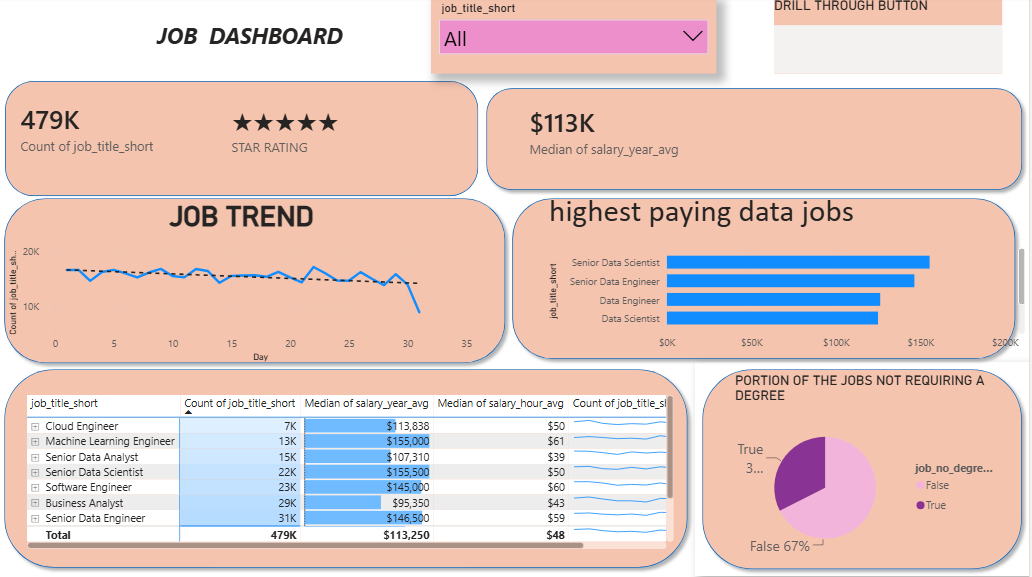

What the dashboard file says about the page in this screenshot:
{"tool":"powerbi","page":{"name":"JOB DASHBOARD","canvas":[1280,720],"ordinal":0},"visuals":[{"type":"shape","box":[10.2,103.6,587.1,142.8],"z":0},{"type":"slicer","fields":{"Values":["job_postings_flat.job_title_short"]},"box":[538.5,0,354,95.3],"z":1000},{"type":"shape","box":[597.3,103.6,682.7,144.3],"z":2000},{"type":"cardVisual","fields":{"Data":["CountNonNull(job_postings_flat.job_title_short)"]},"box":[0,74.3,280,173.3],"z":3000},{"type":"shape","box":[0,240,639.5,222.6],"z":4000},{"type":"cardVisual","fields":{"Data":["job_postings_flat.STAR RATING"]},"box":[261.8,82,304.1,164],"z":5000},{"type":"shape","box":[630.1,240.2,642,217.4],"z":6000},{"type":"cardVisual","fields":{"Data":["Median(job_postings_flat.salary_year_avg)"]},"box":[631.9,95.5,321,140.2],"z":7000},{"type":"shape","box":[0,453.1,865.5,264.1],"z":8000},{"type":"shape","box":[865.5,453.1,414.5,266.2],"z":10000},{"type":"lineChart","title":"JOB TREND","fields":{"Category":["job_postings_flat.job_posted_date.Variation.Date Hierarchy.Year","job_postings_flat.job_posted_date.Variation.Date Hierarchy.Quarter","job_postings_flat.job_posted_date.Variation.Date Hierarchy.Month","job_postings_flat.job_posted_date.Variation.Date Hierarchy.Day"],"Y":["CountNonNull(job_postings_flat.job_title_short)"]},"box":[10.2,251.9,587.2,205.2],"z":11000},{"type":"barChart","title":"highest paying data jobs","fields":{"Category":["job_postings_flat.job_title_short"],"Y":["Median(job_postings_flat.salary_year_avg)"]},"box":[679.7,240.7,600.3,206.3],"z":12000},{"type":"pivotTable","fields":{"Rows":["job_postings_flat.job_title_short","job_postings_flat.job_posted_date.Variation.Date Hierarchy.Quarter"],"Values":["CountNonNull(job_postings_flat.job_title_short)","Median(job_postings_flat.salary_year_avg)","Median(job_postings_flat.salary_hour_avg)","SparklineData(CountNonNull(job_postings_flat.job_title_short)_[job_postings_flat.job_posted_date.Variation.Date Hierarch"]},"box":[31.7,489.3,811.9,201],"z":13000},{"type":"pieChart","title":"PORTION OF THE JOBS NOT REQUIRING A DEGREE","fields":{"Category":["job_postings_flat.job_no_degree_mention"],"Y":["CountNonNull(job_postings_flat.job_no_degree_mention)"]},"box":[910.2,465.3,338.5,238],"z":14000},{"type":"actionButton","title":"DRILL THROUGH BUTTON","box":[964.3,0,283.5,95.3],"z":15000},{"type":"textbox","box":[18.6,24.8,488.7,61],"z":15001}]}

Visuals, with their boxes in screenshot pixels (x1, y1, x2, y2), scaled from the page's 1280x720 canvas onto the 1032x577 screenshot:
shape: pyautogui.locateOnScreen(8, 83, 482, 197)
slicer - job_postings_flat.job_title_short: pyautogui.locateOnScreen(434, 0, 720, 76)
shape: pyautogui.locateOnScreen(482, 83, 1031, 199)
cardVisual - CountNonNull(job_postings_flat.job_title_short): pyautogui.locateOnScreen(0, 60, 226, 198)
shape: pyautogui.locateOnScreen(0, 192, 516, 371)
cardVisual - job_postings_flat.STAR RATING: pyautogui.locateOnScreen(211, 66, 456, 197)
shape: pyautogui.locateOnScreen(508, 192, 1026, 367)
cardVisual - Median(job_postings_flat.salary_year_avg): pyautogui.locateOnScreen(509, 77, 768, 189)
shape: pyautogui.locateOnScreen(0, 363, 698, 575)
shape: pyautogui.locateOnScreen(698, 363, 1031, 576)
"JOB TREND" lineChart: pyautogui.locateOnScreen(8, 202, 482, 366)
"highest paying data jobs" barChart: pyautogui.locateOnScreen(548, 193, 1031, 358)
pivotTable - job_postings_flat.job_title_short x job_postings_flat.job_posted_date.Variation.Date Hierarchy.Quarter: pyautogui.locateOnScreen(26, 392, 680, 553)
"PORTION OF THE JOBS NOT REQUIRING A DEGREE" pieChart: pyautogui.locateOnScreen(734, 373, 1007, 564)
"DRILL THROUGH BUTTON" actionButton: pyautogui.locateOnScreen(777, 0, 1006, 76)
textbox: pyautogui.locateOnScreen(15, 20, 409, 69)
